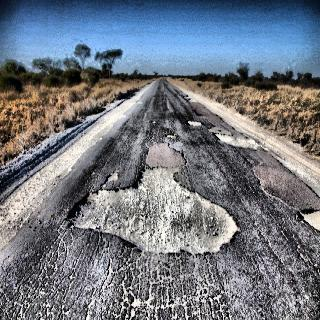pothole: (71, 161, 240, 253), (212, 130, 262, 152), (295, 202, 320, 233), (182, 93, 198, 104), (186, 119, 201, 128), (163, 133, 176, 139), (148, 119, 158, 125)
